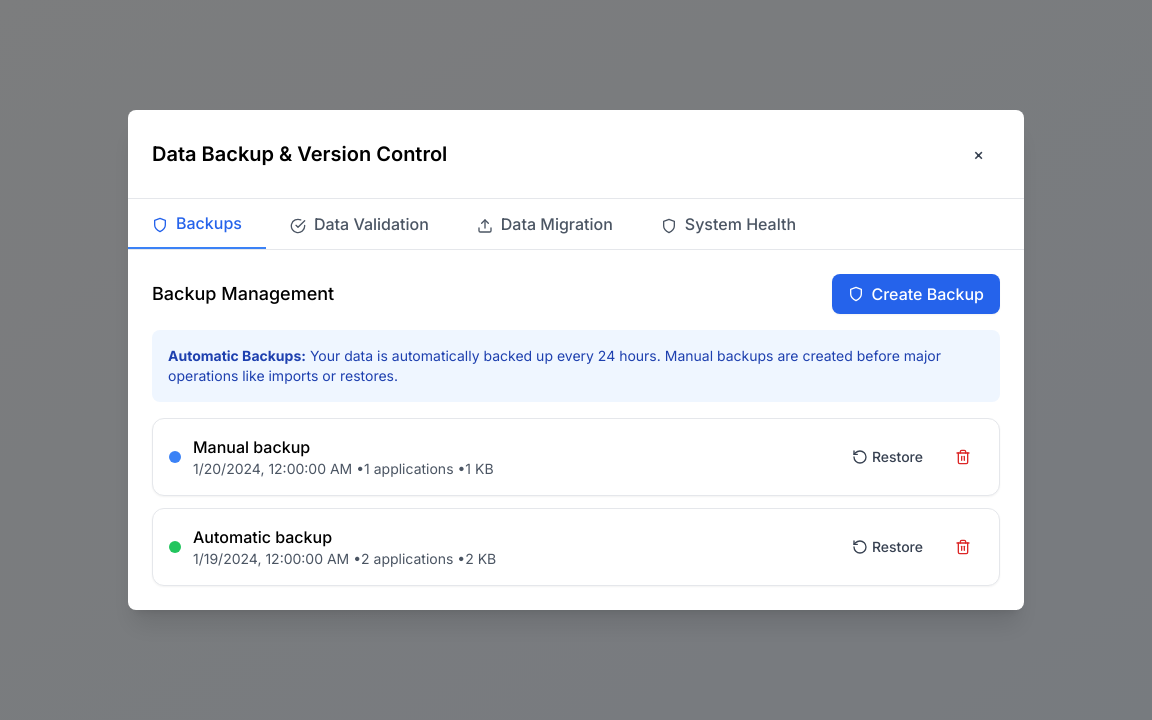
BackupManager › Migration Tab › should switch to migration tab
Click the button "Data Migration" at [545, 224], box [453,199,637,249]
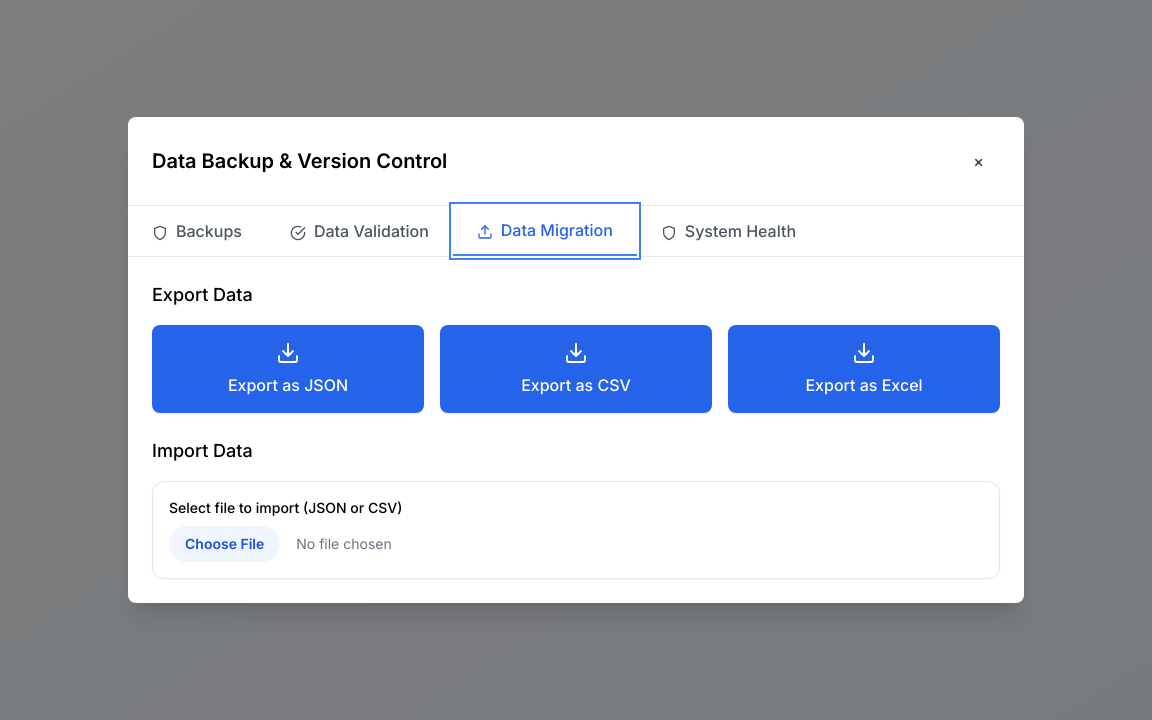
Check: the heading "Export Data" is shown, box [152,284,253,305]
Check: the heading "Import Data" is shown, box [152,440,253,461]
Check: the button "Export as JSON" is shown, box [152,325,424,413]
